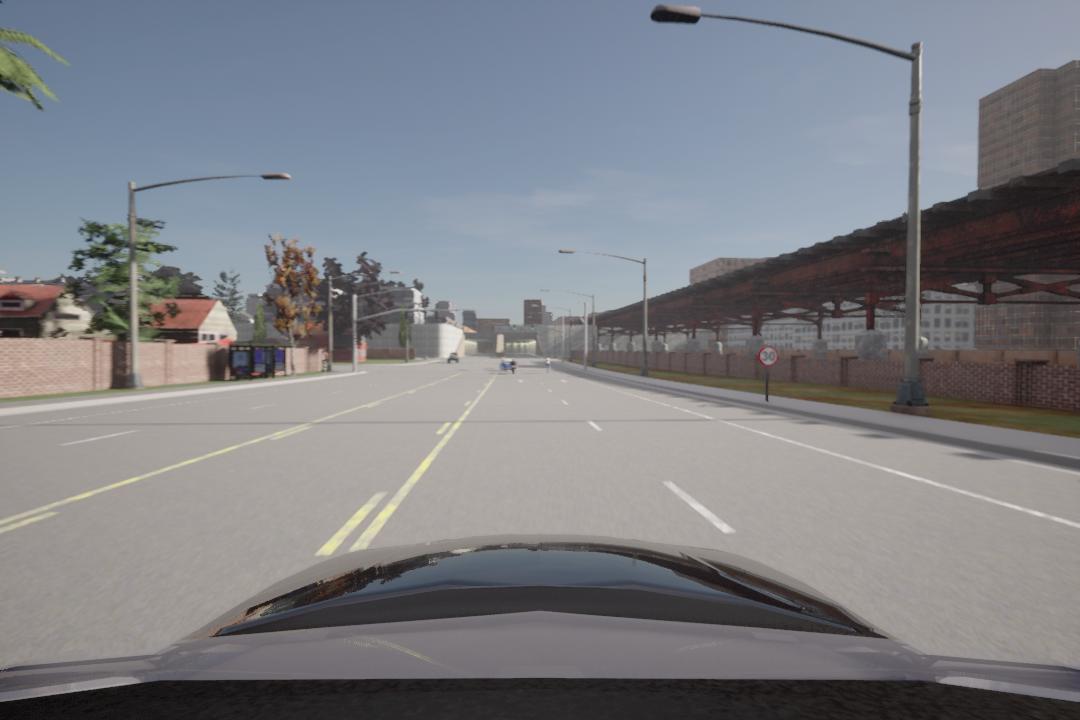TrafficSign_speed: (757, 346, 778, 367)
